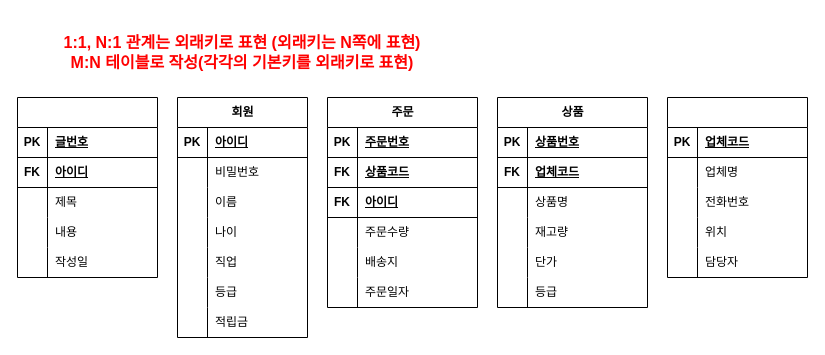
Image size: 825x355. Some labels were removed from this diagram. The box of each missing label's shape, as (x1, y1, x2, y2) in pixels:
게시글: (16, 96, 158, 278)
제조업체: (666, 96, 808, 278)
